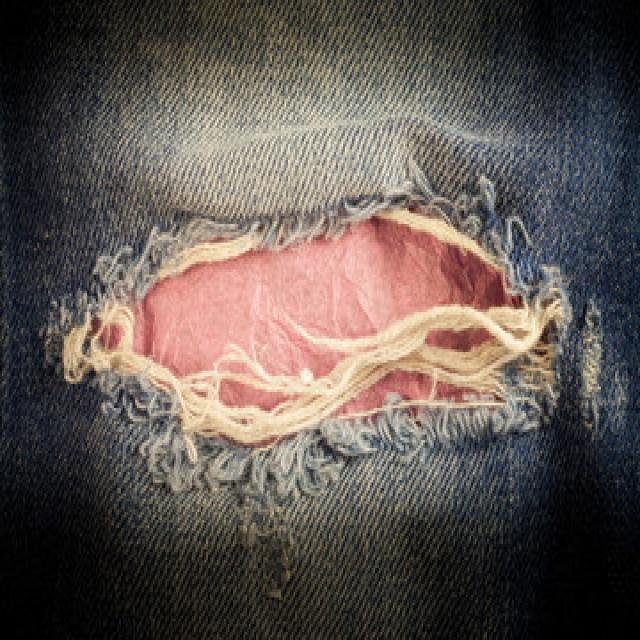Hole: (46, 178, 573, 546), (580, 300, 604, 430)
